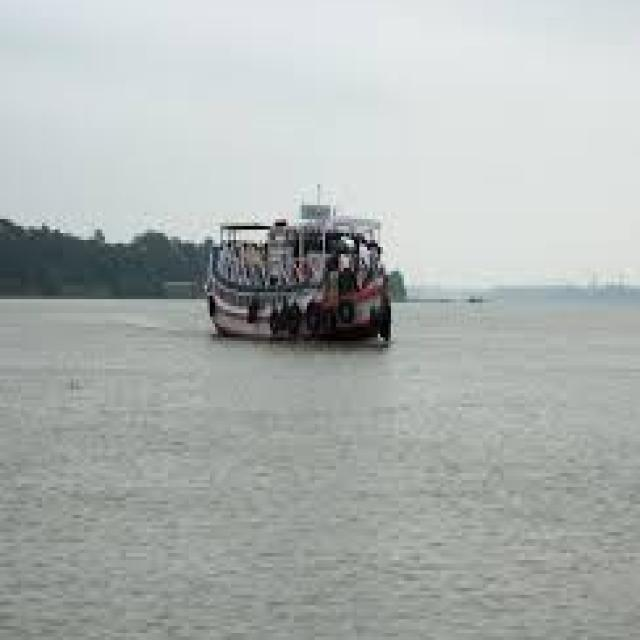fishing boat: (202, 185, 390, 342)
